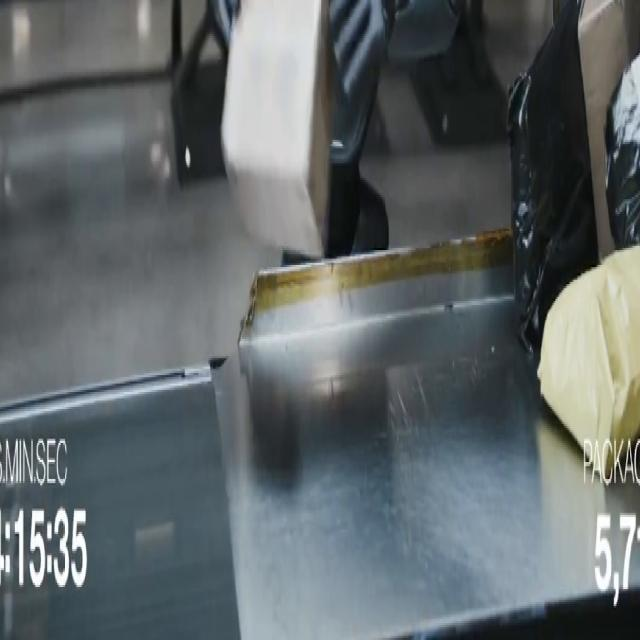package: (508, 0, 598, 351), (222, 0, 335, 256), (538, 246, 639, 478), (579, 0, 639, 258), (605, 58, 639, 247)
